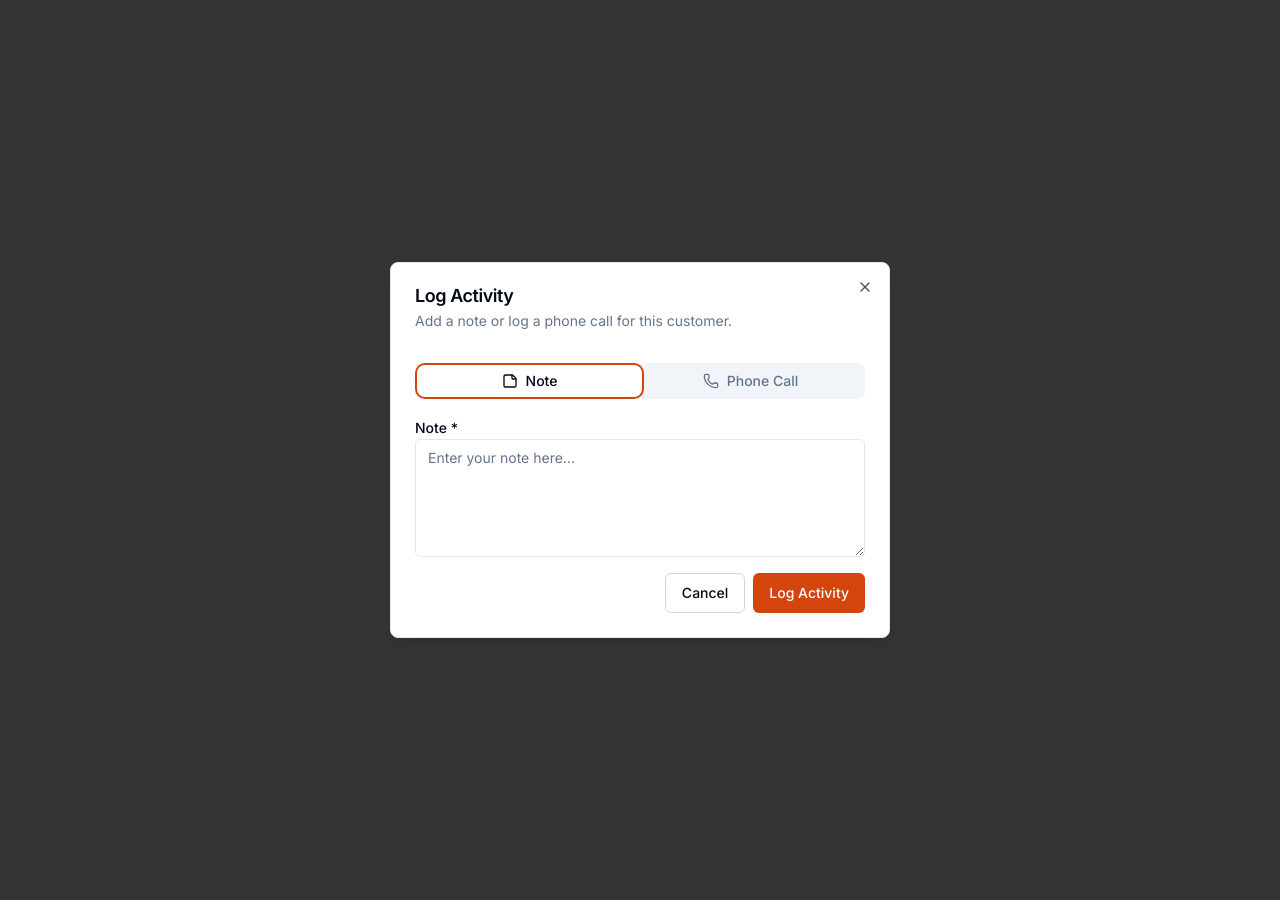
Test: AddActivityDialog Component › should have Outbound and Inbound buttons
Click the tab "Phone Call" at coordinates (750, 381), box [640,367,861,395]
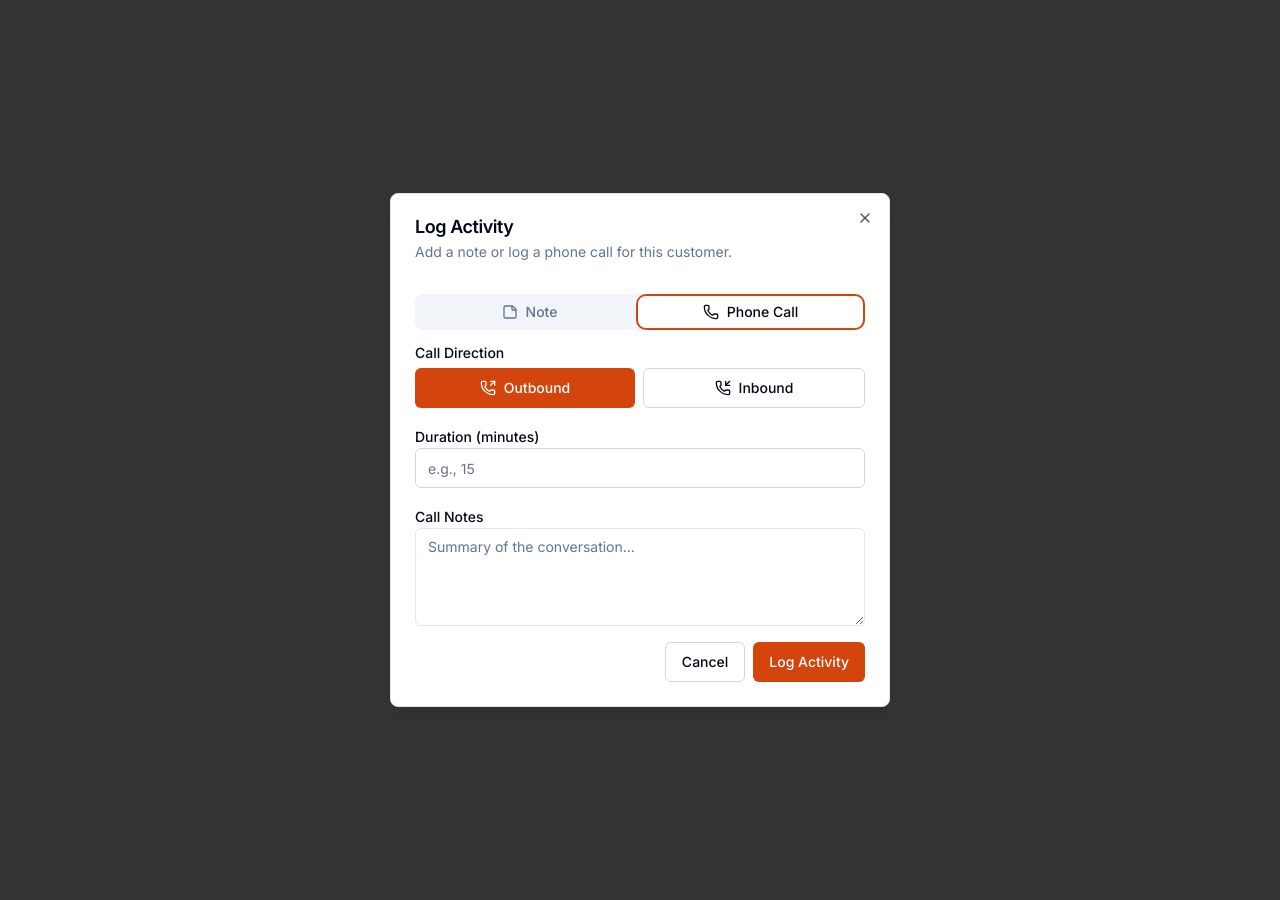
Result: the button "Outbound" is shown at [415,368,635,408]
Result: the button "Inbound" is shown at [643,368,865,408]
